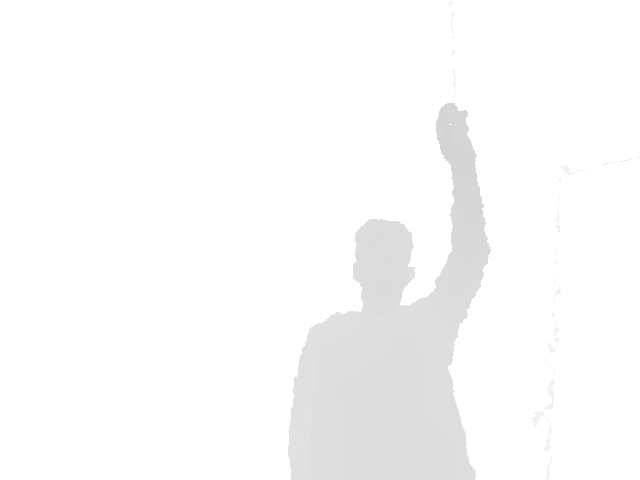hand: (435, 101, 478, 166)
head: (352, 218, 416, 311)
person: (286, 100, 492, 480)
